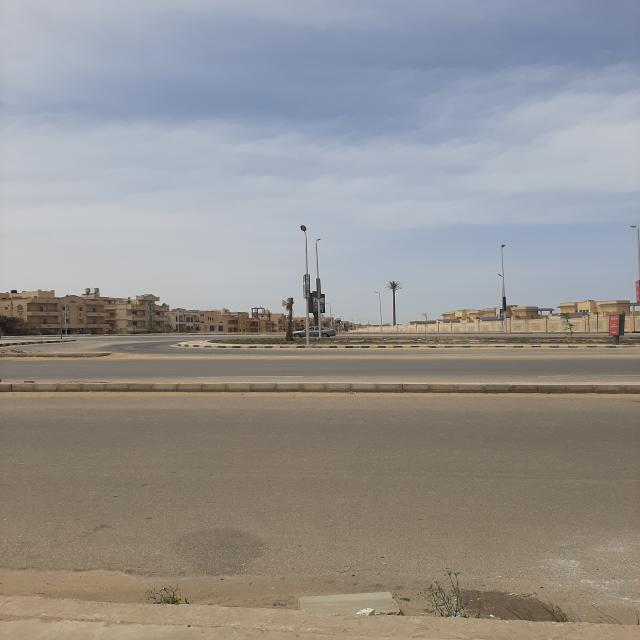Street Light: (299, 225, 310, 343), (628, 225, 640, 315), (315, 238, 323, 338), (500, 245, 508, 332), (373, 292, 382, 326)
